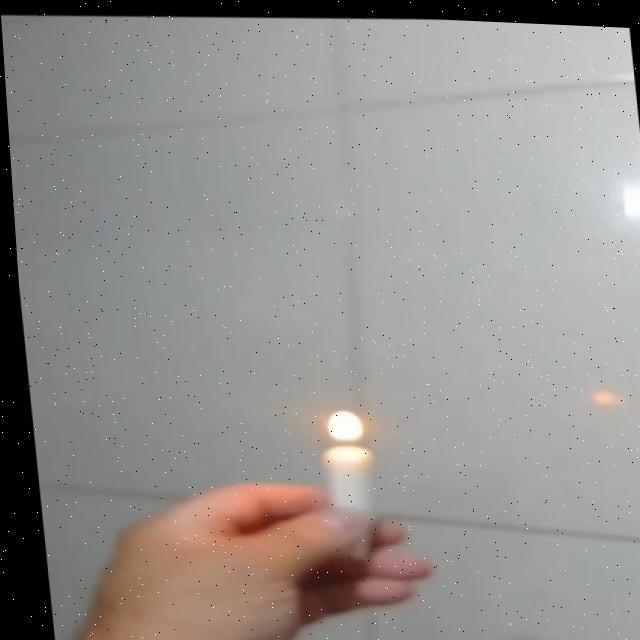fire: (317, 404, 361, 440)
